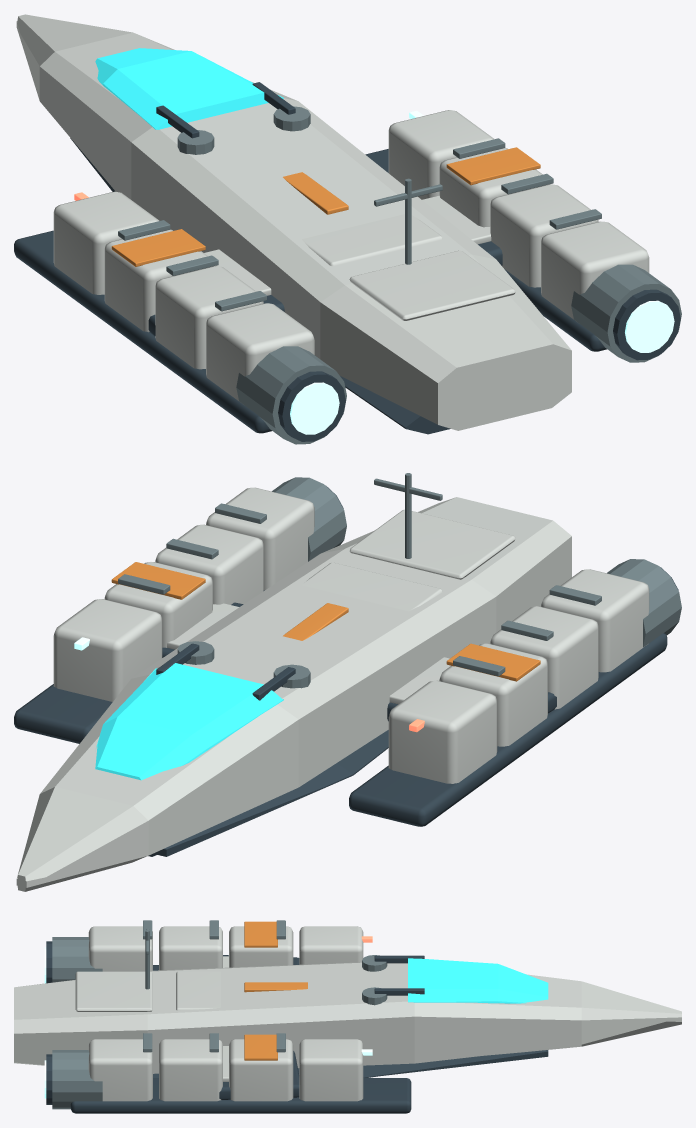
File: itsaso.glb
3 renders of one model, top to bottom at view 1: azimuth 30°, elevation 25°; view 2: azimuth 150°, elevation 25°; view 3: azimuth 270°, elevation 25°, orthographic. The views are drawn at different scales.
Visible parts, largest first — view 1: itsaso; view 2: itsaso; view 3: itsaso.
Part boxes in pixels (x1,y1,x2,y2): itsaso: (14, 14, 681, 444); itsaso: (14, 473, 681, 891); itsaso: (14, 920, 681, 1113).
Bounding box in the file's own units: 9.85 × 4.3 × 20.
